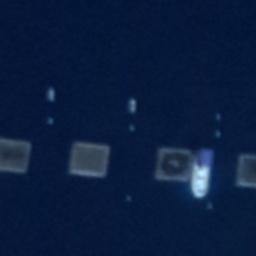square_cover: (65, 134, 113, 180), (153, 141, 200, 187), (1, 129, 31, 177), (230, 148, 256, 189)
